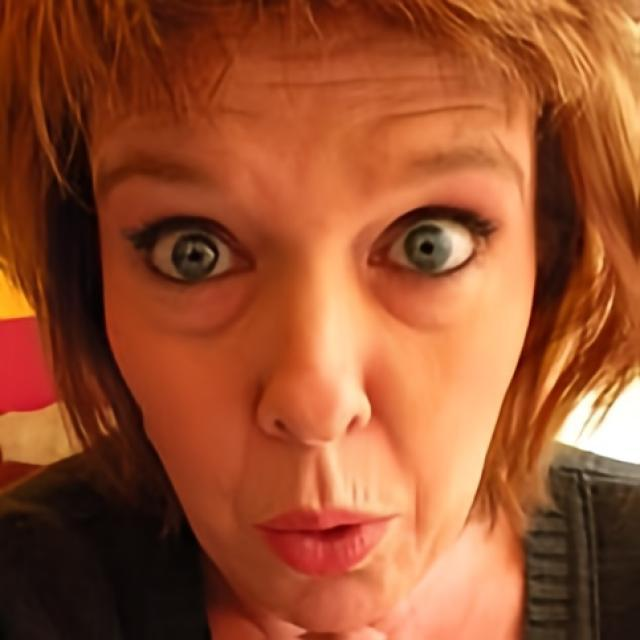surprise: (83, 16, 540, 632)
